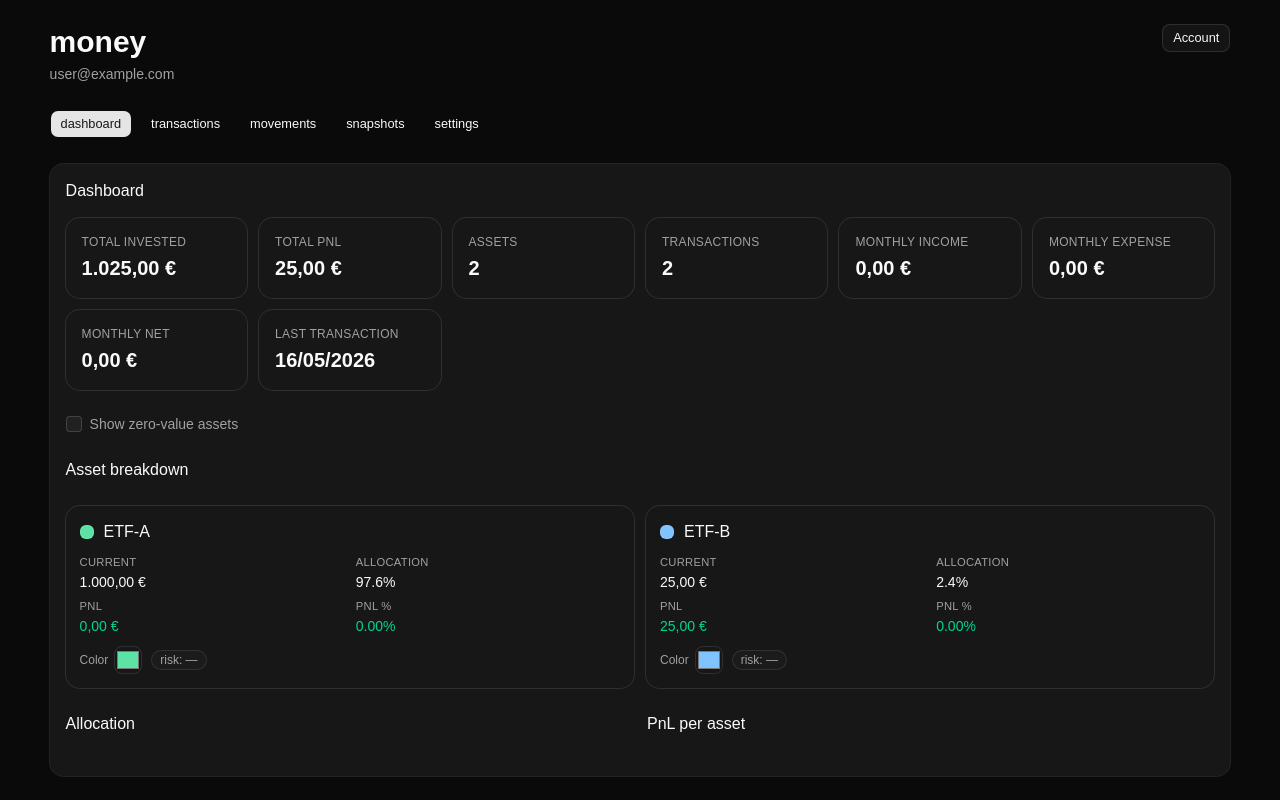
Test: Transactions form dynamic fields (issue #51) › asset combobox keyboard nav: ArrowDown + Enter selects an option
Expected: the heading "Dashboard" is shown, [66,182,144,199]
Click the link "transactions" at (186, 124), box [151,116,220,131]
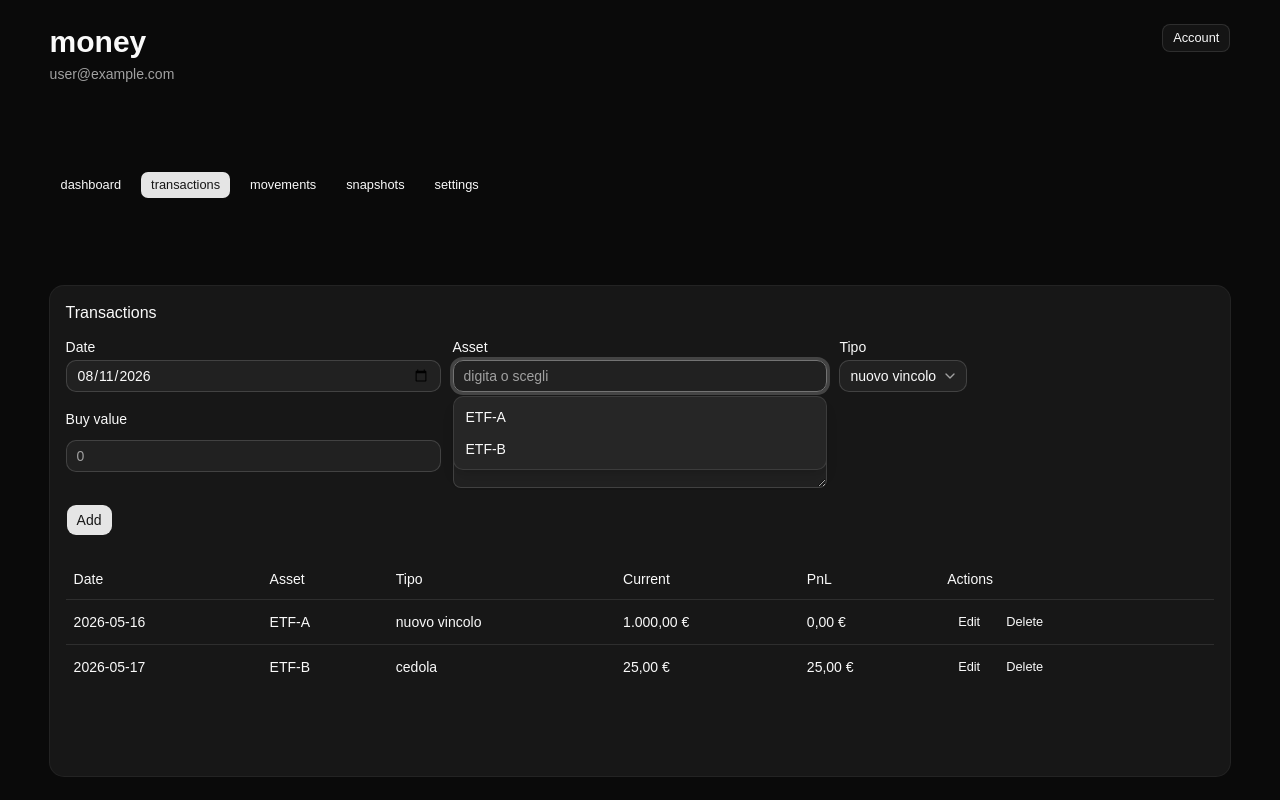
Result: the option "ETF-A" is shown at [466,409,506,425]
Press Arrowdown
Press Arrowdown
Press Enter
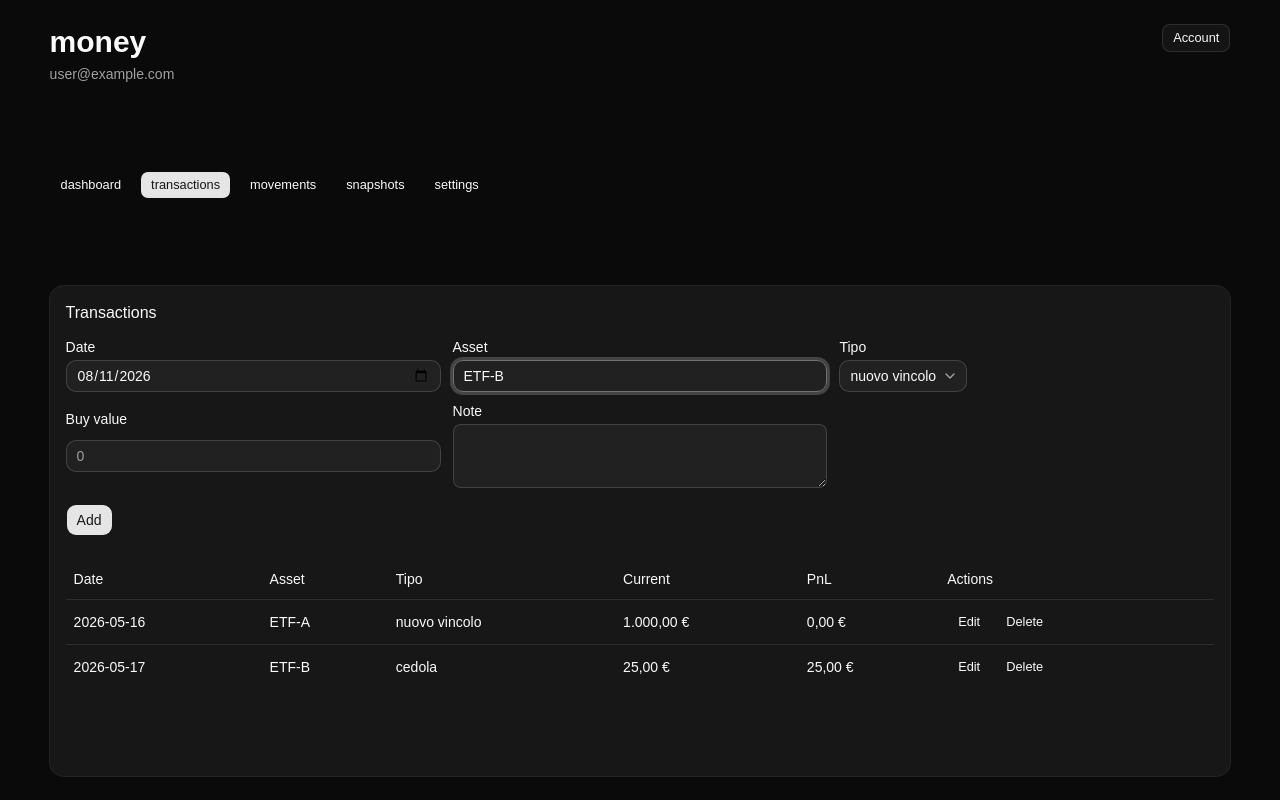
Result: the dropdown labelled "Asset" holds "ETF-B" at [452,360,827,392]
